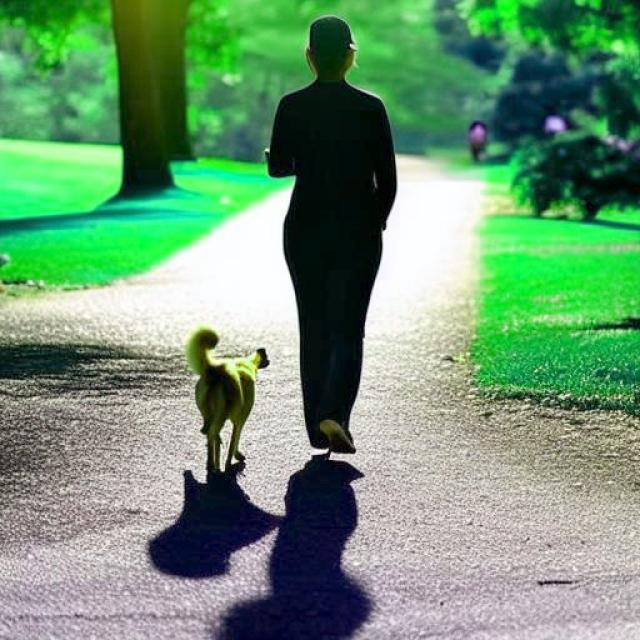Unleashed_Dog: (184, 220, 384, 473)
